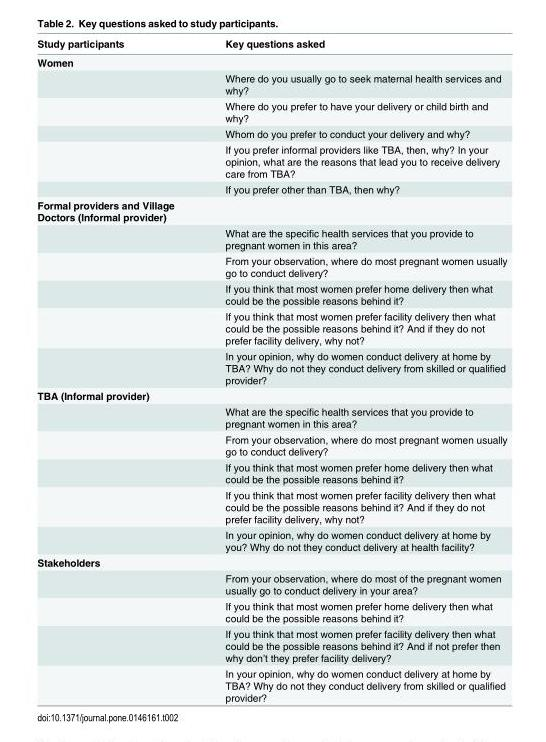table: (36, 37, 506, 703)
table column: (199, 37, 506, 703), (36, 37, 199, 703)
table column header: (36, 37, 506, 52)
table projected row header: (36, 196, 506, 224), (36, 52, 506, 70), (36, 387, 506, 403), (36, 554, 506, 570)
table row: (36, 141, 506, 181), (36, 347, 506, 387), (36, 486, 506, 526), (36, 625, 506, 665), (36, 308, 506, 347), (36, 665, 506, 703), (36, 97, 506, 125), (36, 196, 506, 224), (36, 224, 506, 252), (36, 252, 506, 280), (36, 280, 506, 308), (36, 403, 506, 431), (36, 458, 506, 486), (36, 526, 506, 554), (36, 597, 506, 625), (36, 70, 506, 97), (36, 431, 506, 458), (36, 570, 506, 597), (36, 52, 506, 70), (36, 125, 506, 141), (36, 387, 506, 403), (36, 554, 506, 570), (36, 37, 506, 52), (36, 181, 506, 196)
